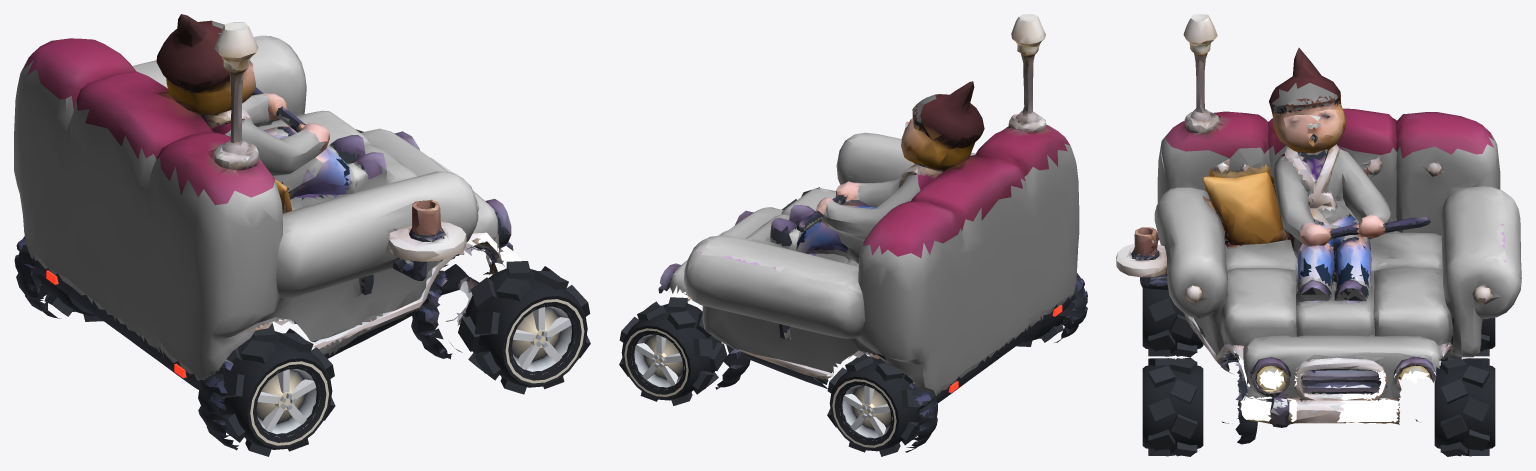
File: car-couch.glb
3 renders of one model, left to right at view 1: azimuth 30°, elevation 25°; view 2: azimuth 150°, elevation 25°; view 3: azimuth 270°, elevation 25°, orthographic. The views are drawn at different scales.
Visible parts, largest first — view 1: body, lamp, wheel_fr, wheel_rr, cushion, wheel_rl; view 2: body, lamp, wheel_fl, wheel_rl, wheel_rr; view 3: body, lamp, wheel_fr, wheel_fl, cushion, wheel_rr, wheel_rl.
Part boxes in pixels (x1=…): body: x1=14, y1=21, x2=521, y2=450; lamp: x1=24, y1=14, x2=274, y2=204; wheel_fr: x1=458, y1=261, x2=590, y2=394; wheel_rr: x1=218, y1=323, x2=335, y2=456; cushion: x1=219, y1=109, x2=438, y2=261; wheel_rl: x1=23, y1=236, x2=103, y2=321; body: x1=658, y1=94, x2=1087, y2=452; lamp: x1=863, y1=14, x2=1070, y2=258; wheel_fl: x1=619, y1=297, x2=727, y2=405; wheel_rl: x1=827, y1=353, x2=920, y2=456; wheel_rr: x1=1016, y1=273, x2=1080, y2=346; body: x1=1116, y1=83, x2=1521, y2=444; lamp: x1=1165, y1=14, x2=1494, y2=158; wheel_fr: x1=1142, y1=357, x2=1203, y2=456; wheel_fl: x1=1434, y1=357, x2=1495, y2=456; cushion: x1=1130, y1=158, x2=1306, y2=253; wheel_rr: x1=1142, y1=274, x2=1203, y2=357; wheel_rl: x1=1475, y1=317, x2=1495, y2=356.
Bounding box in the file's own units: 3.17 × 3.31 × 3.7.
